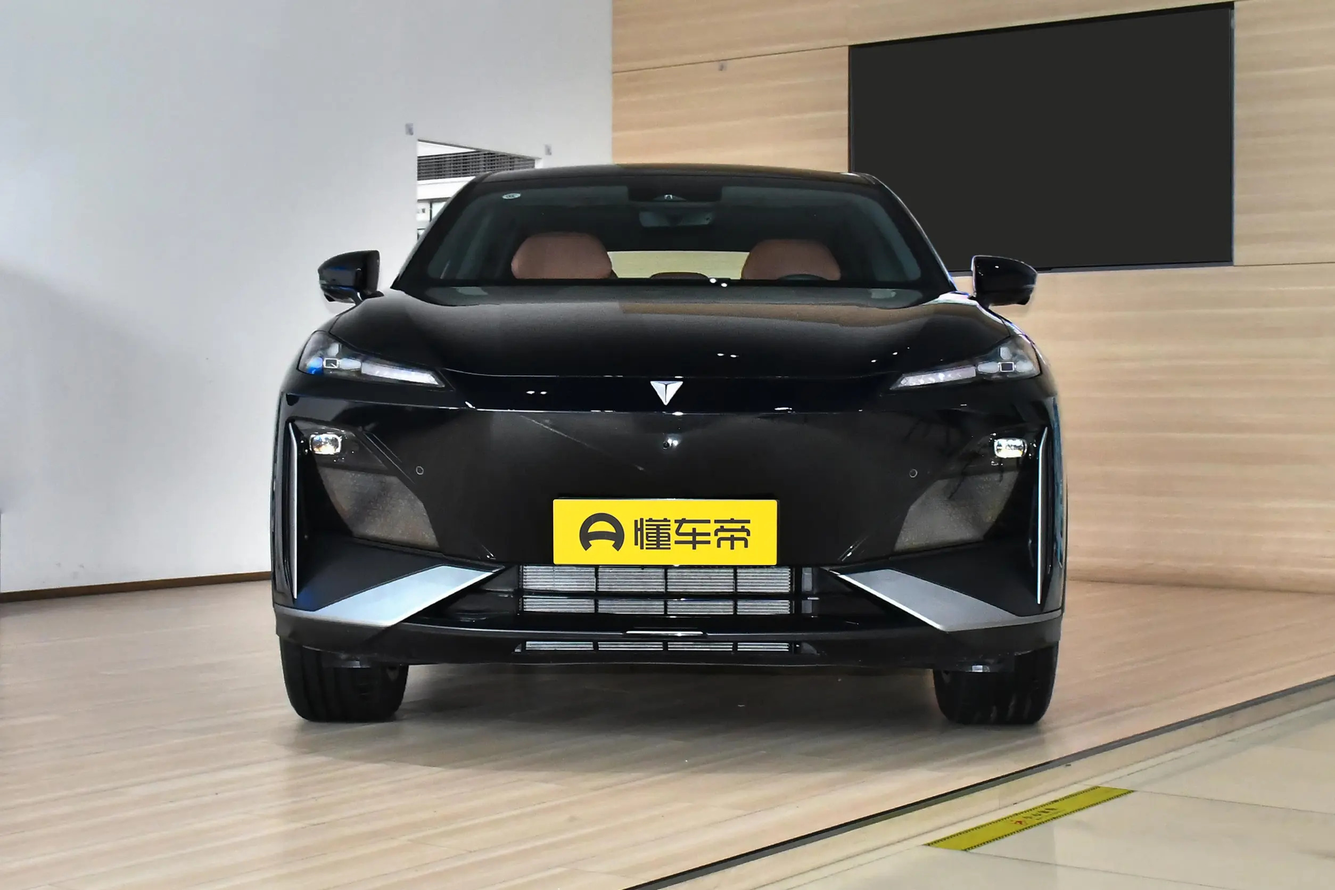Deepal: (650, 381, 683, 405)
